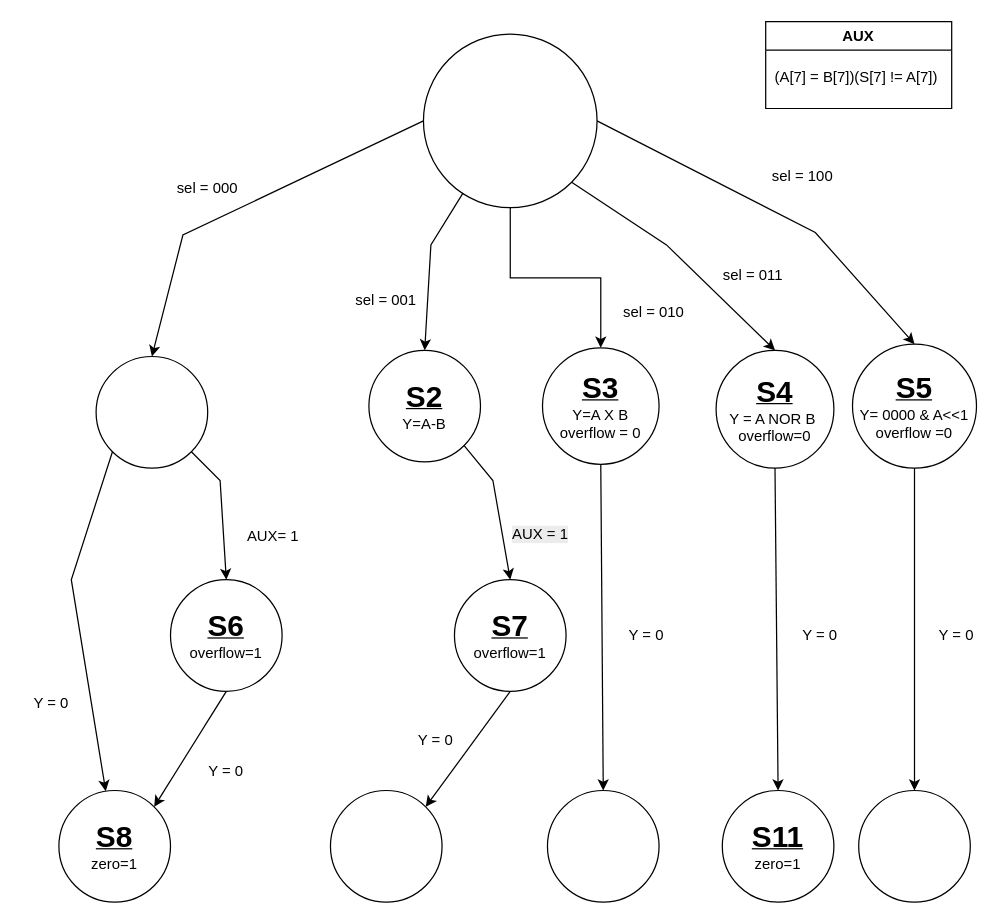
The diagram is 1007 pixels wide and 924 high, and some of its shapes have lost their labels. Here are the shapes that lost their labels. From the top down, the centre of each, then its label:
the point at 509,120: S0 A= Input B = Input sel =Input Y=00000000 overflow = 0 zero = 0
the point at 151,411: S1 Y=A+B
the point at 385,845: S9 zero=1
the point at 602,845: S10 zero=1
the point at 913,845: S12 zero=1
